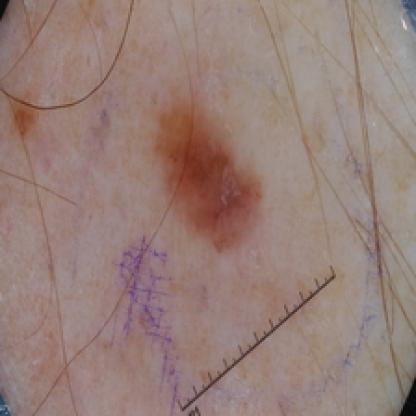Skin_Cancer-Malignant: (158, 98, 264, 257)
